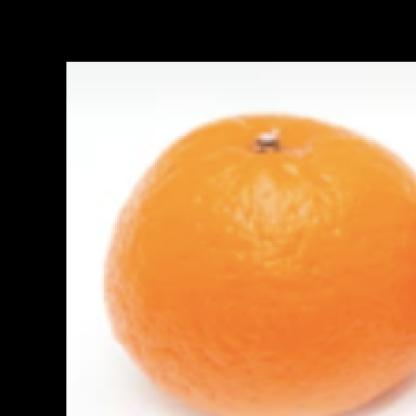fresh: (120, 122, 416, 416)
